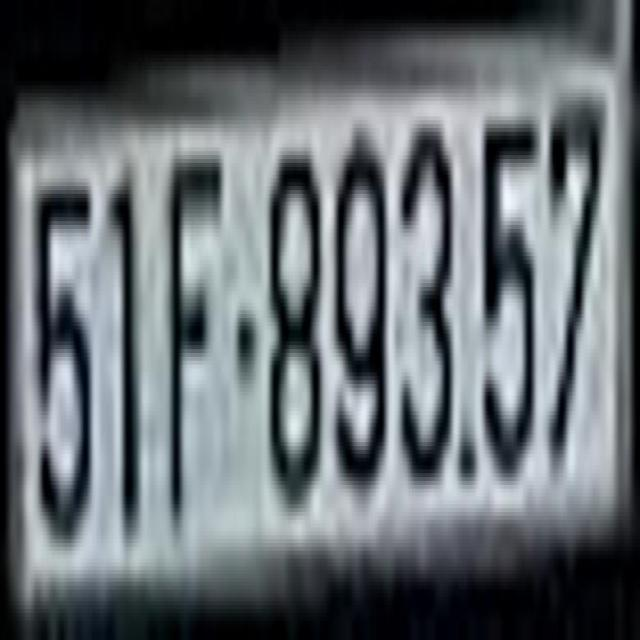1: (111, 175, 142, 512)
3: (400, 120, 451, 477)
5: (34, 175, 96, 539), (480, 101, 537, 473)
7: (546, 97, 608, 473)
8: (260, 128, 324, 493)
9: (336, 128, 386, 481)
F: (168, 144, 230, 532)
